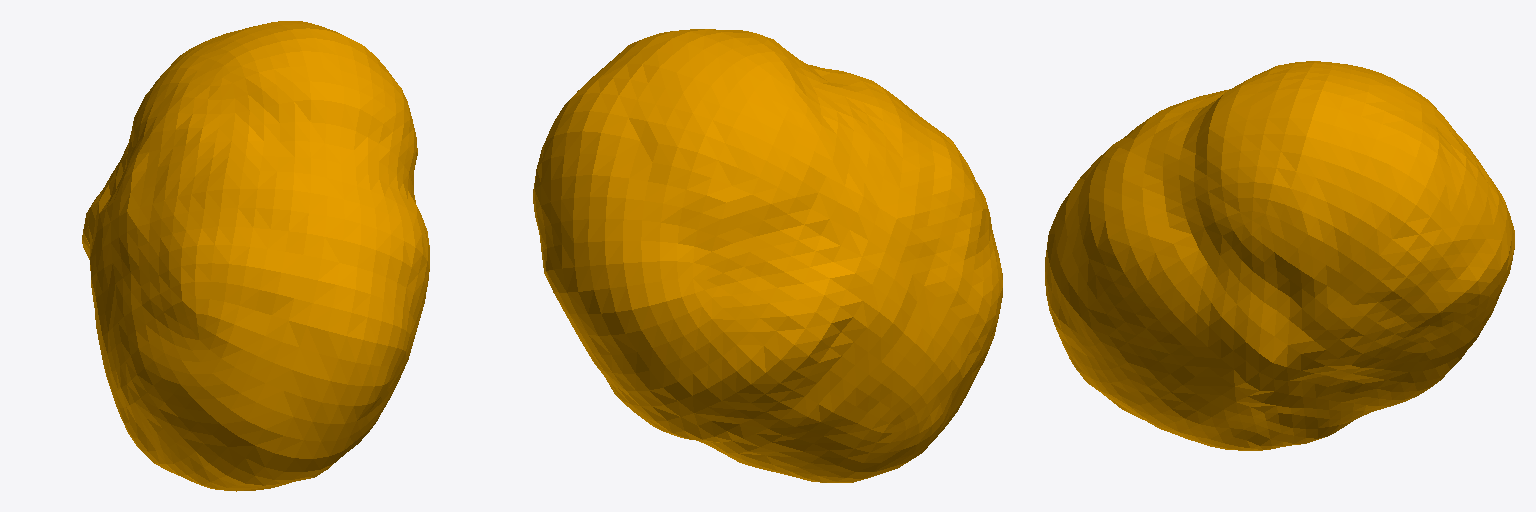
The robot description file, URDF, robot "rock":
<?xml version="1.0" ?>
<robot name="rock">
  <link name="rock">
    <inertial>
      <mass value="0.348"/>
      <origin rpy="0 0 0" xyz="0 0 0"/>
      <inertia ixx="0.000348" ixy="0" ixz="0" iyy="0.000348" iyz="0" izz="0.000348"/>
    </inertial>
    <collision name="rock_collision">
      <origin rpy="0 0 0" xyz="0 0 0"/>
      <geometry>
        <mesh filename="package://rocks/visual/116.dae" scale="1 1 1"/>
      </geometry>
    </collision>
    <visual name="rock_visual">
      <origin rpy="0 0 0" xyz="0 0 0"/>
      <geometry>
        <mesh filename="package://rocks/visual/116.dae" scale="1 1 1"/>
      </geometry>
    </visual>
  </link>
</robot>

--- Render facts (derived) ---
3 views of the same robot in one strip: view 1: azimuth 30°, elevation 25°; view 2: azimuth 150°, elevation 25°; view 3: azimuth 270°, elevation 25° (orthographic).
Robot: rock — 1 links, 0 joints (none); root link rock; default pose: all joints at 0.
Links seen in each view (by area): view 1: rock; view 2: rock; view 3: rock.
Link boxes in pixels (x1,y1,x2,y2): rock: [82, 21, 429, 491]; rock: [533, 29, 1002, 482]; rock: [1045, 61, 1514, 450].
Bounding box of the posed robot: 0.0615 × 0.0772 × 0.073 m (x, y, z).
1 mesh visuals loaded from 1 distinct referenced files (1 Collada DAE).